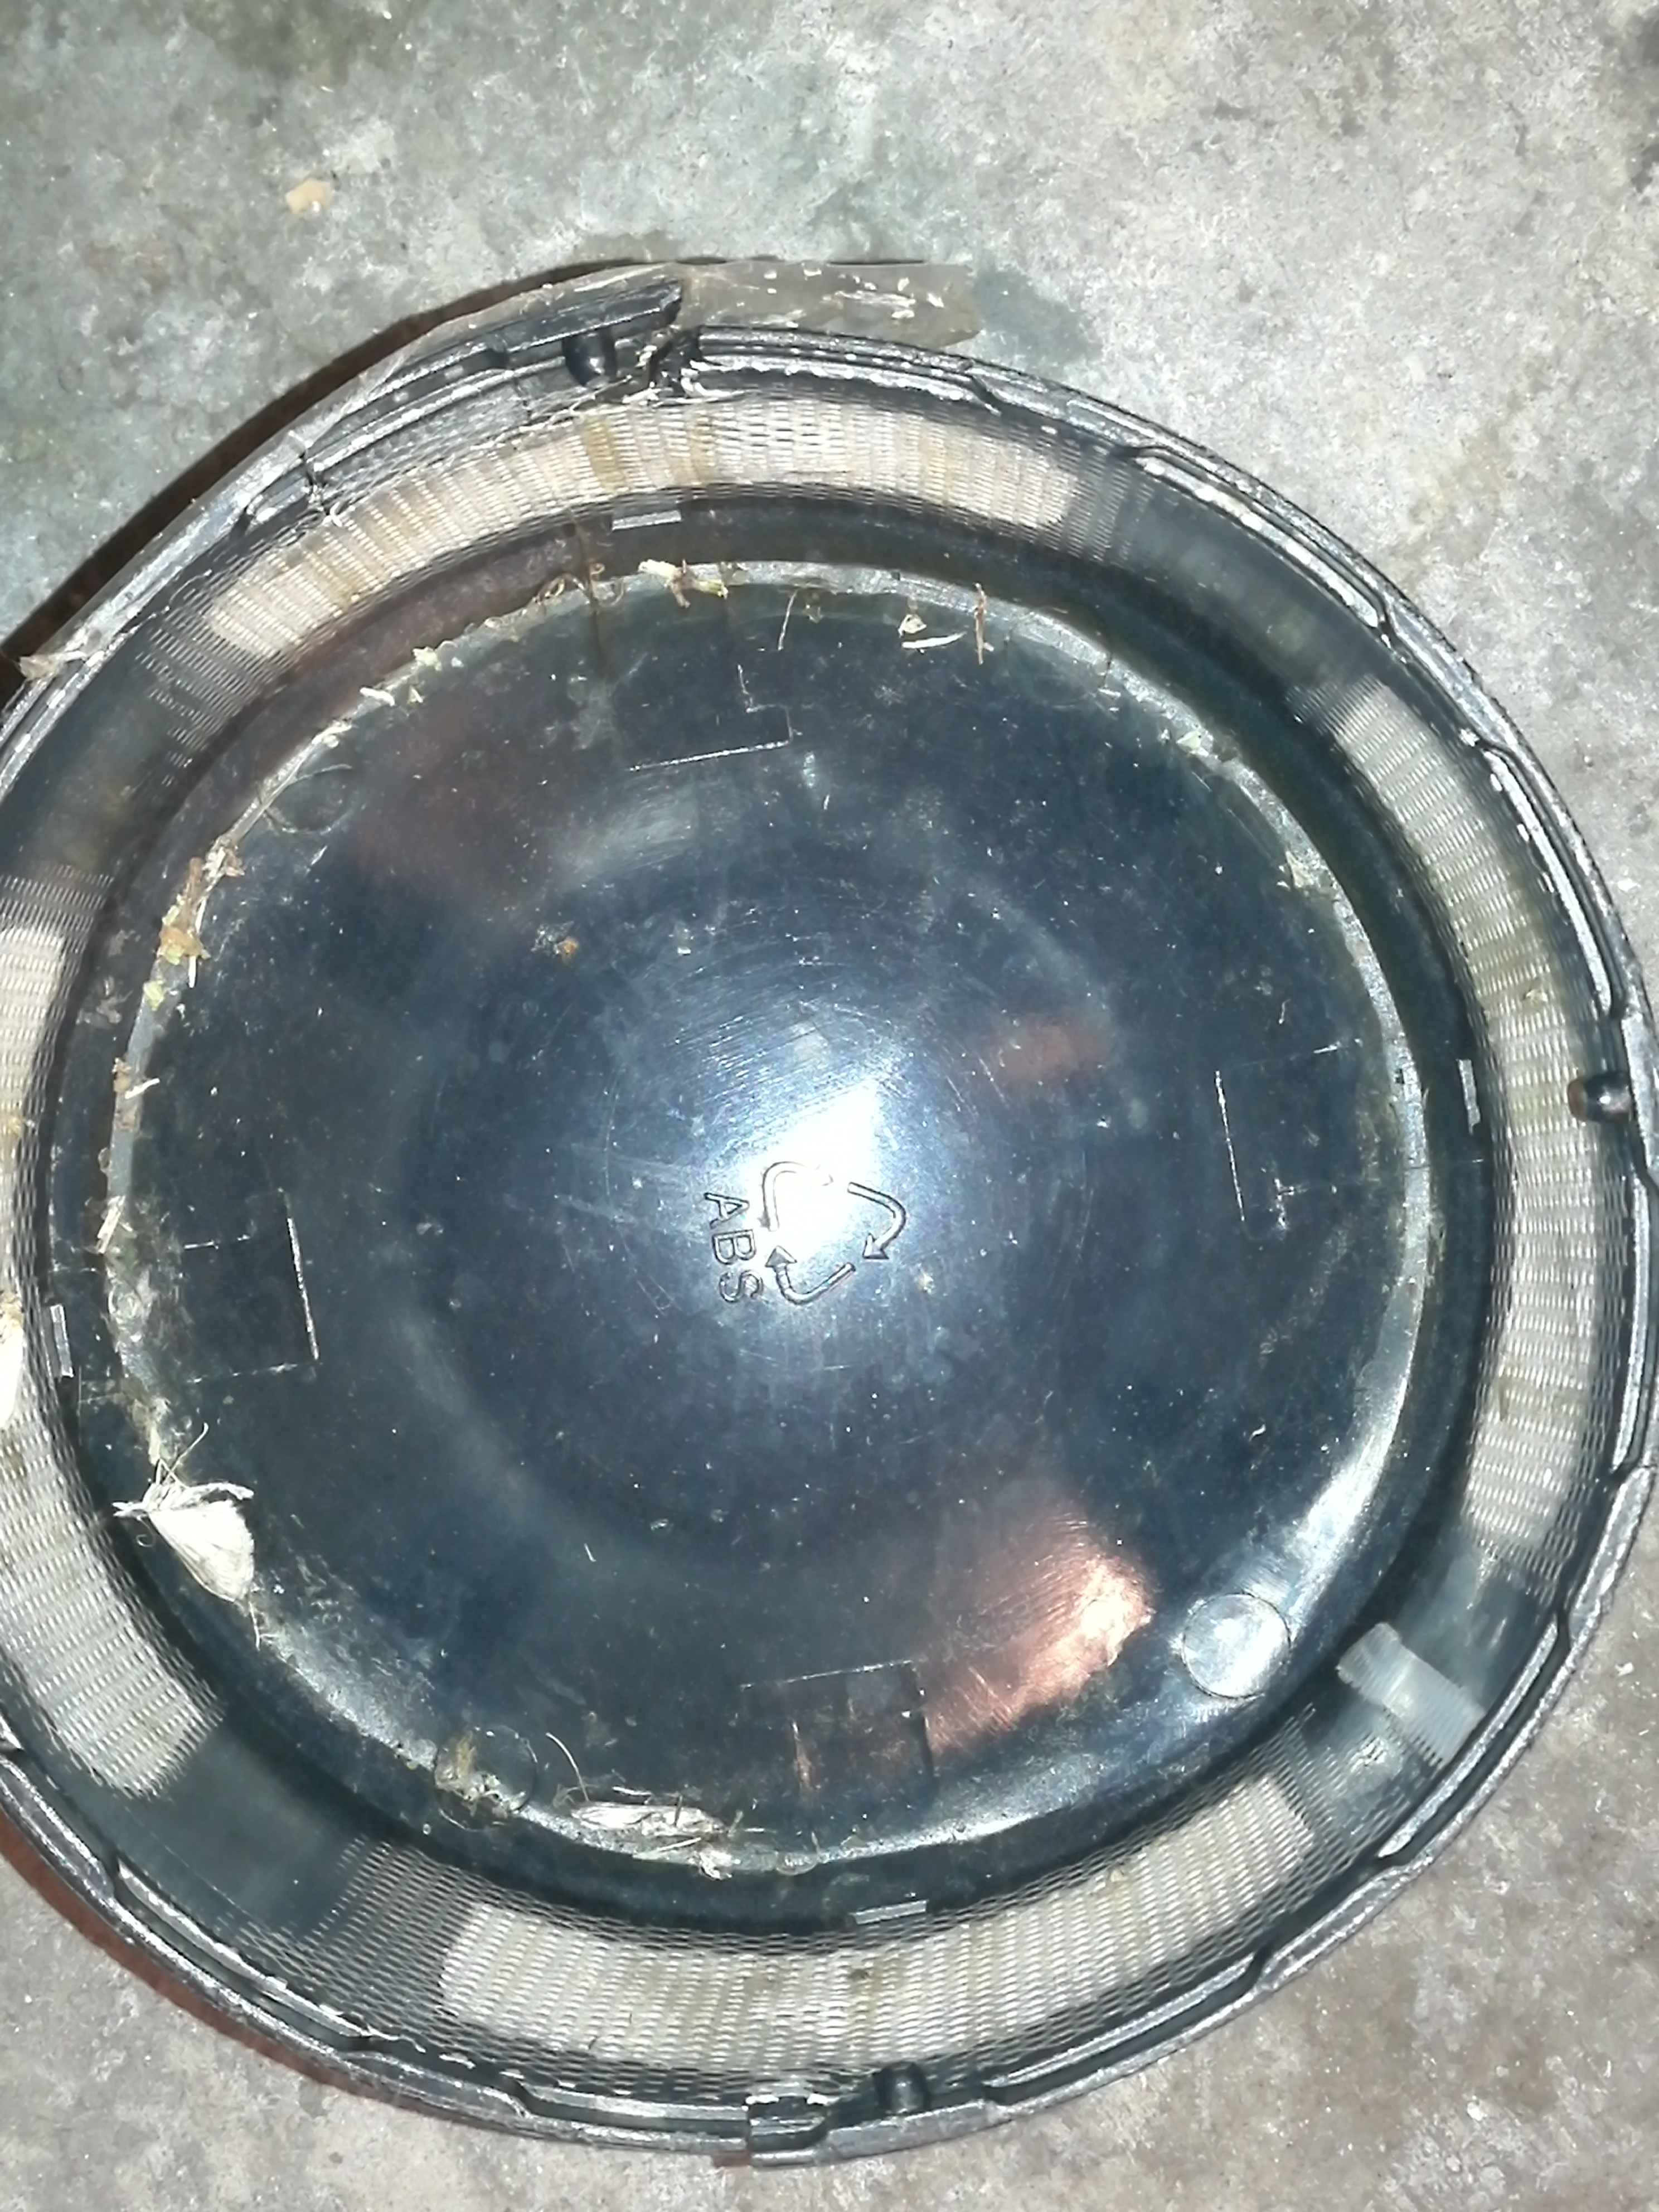mosquito: (573, 1801, 721, 1836), (96, 1195, 124, 1251), (150, 1426, 162, 1467)
moth: (113, 1482, 253, 1601)
